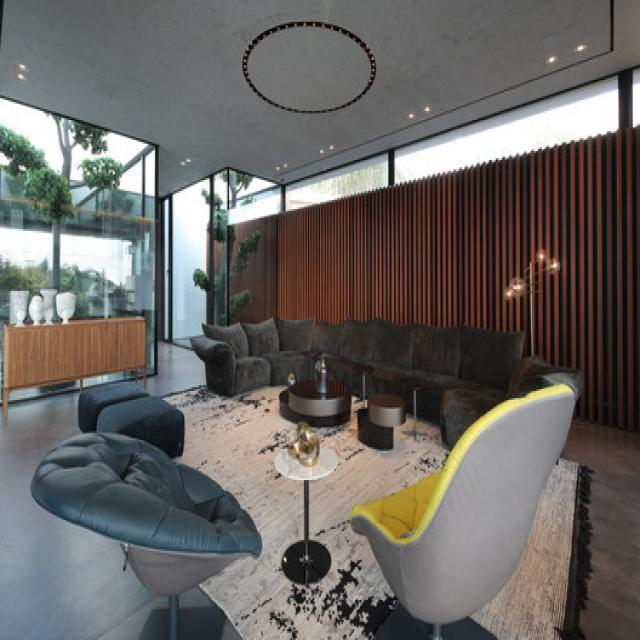couch: (350, 385, 576, 627), (187, 315, 588, 450), (29, 428, 263, 597)
